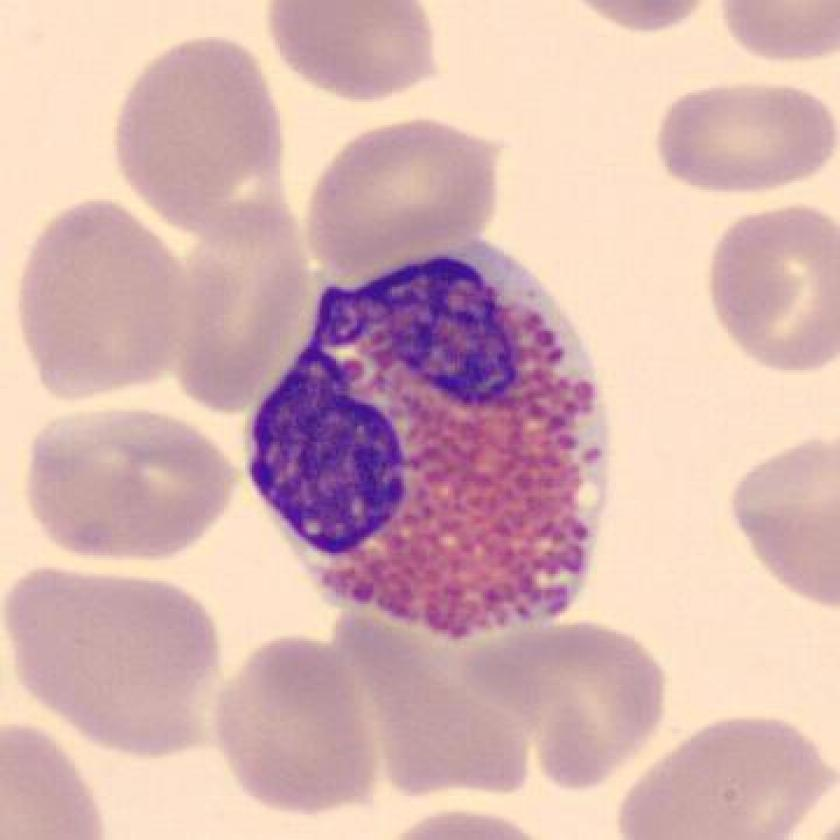eosinophil: (235, 221, 627, 649)
